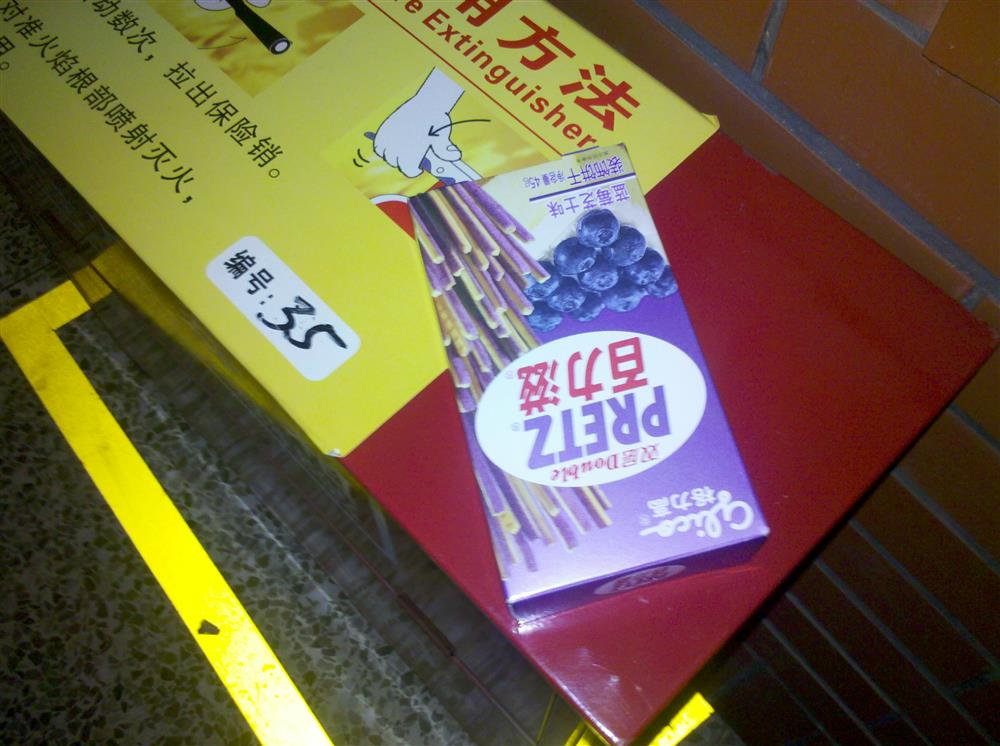Pretz: (349, 125, 785, 657)
